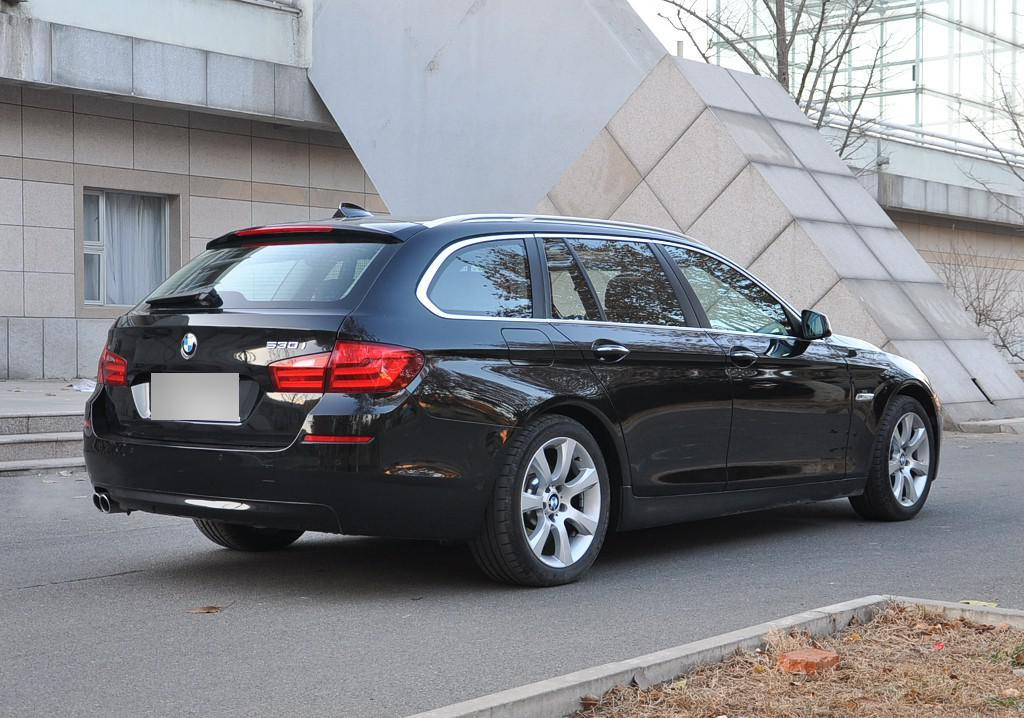Wagon: (82, 201, 944, 589)
